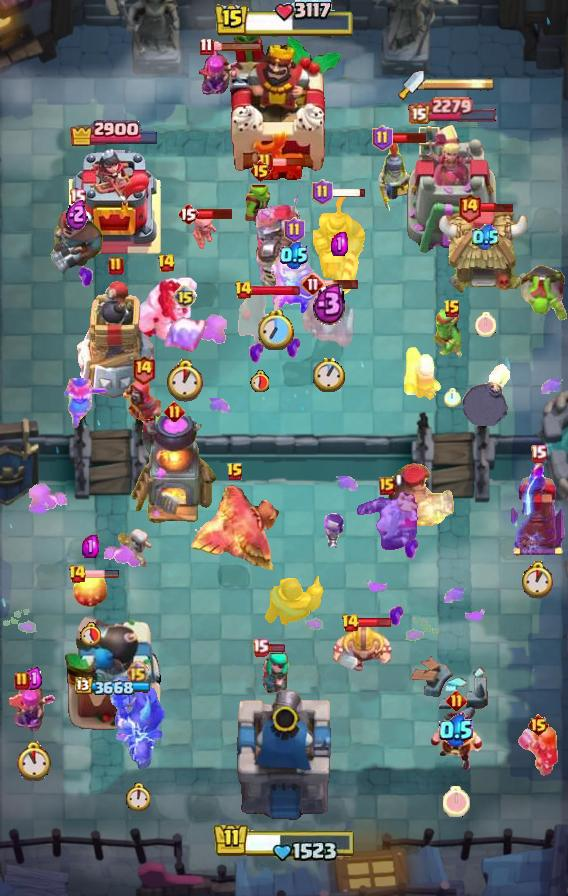archer-evolution: (191, 43, 245, 101), (8, 679, 58, 735)
bandit: (235, 289, 283, 347)
bar: (250, 284, 301, 297), (211, 41, 263, 52), (197, 207, 234, 220), (391, 131, 428, 144), (323, 278, 360, 290), (330, 187, 367, 198), (479, 202, 515, 213), (357, 617, 392, 628), (84, 569, 120, 579), (271, 157, 306, 167), (267, 643, 286, 653)
bar-level: (131, 354, 156, 385), (457, 192, 482, 223), (173, 285, 197, 309), (301, 272, 325, 296), (527, 713, 550, 737), (249, 159, 272, 183), (284, 217, 305, 243), (312, 179, 333, 205), (372, 125, 393, 151), (126, 661, 149, 684), (177, 202, 199, 226), (446, 690, 467, 711), (164, 401, 185, 422), (341, 613, 360, 633), (68, 564, 87, 584), (234, 280, 253, 300), (157, 253, 176, 273), (226, 462, 244, 482), (443, 299, 461, 319), (252, 638, 269, 657), (530, 444, 547, 463), (69, 188, 86, 207), (14, 671, 30, 691), (108, 256, 124, 276), (257, 152, 273, 172), (379, 477, 395, 495), (199, 37, 214, 56)
bomb: (461, 364, 513, 426)
cannoneer-tower: (63, 615, 165, 731)
clock: (165, 359, 206, 402), (14, 741, 53, 782), (258, 310, 294, 350), (520, 561, 556, 599), (313, 357, 345, 392), (443, 786, 470, 817), (125, 782, 150, 811), (475, 312, 496, 337), (80, 622, 101, 646), (250, 370, 269, 392), (444, 388, 461, 407)
dagger-duchess-tower: (406, 122, 500, 256)
dagger-duchess-tower-bar: (424, 77, 496, 91)
electro-wizard: (428, 710, 484, 774)
elite-barbarian: (332, 625, 394, 673)
elixir: (312, 282, 347, 325), (439, 713, 473, 747), (280, 241, 308, 269), (472, 224, 499, 251), (66, 197, 88, 230), (22, 667, 44, 691), (331, 232, 348, 256), (82, 535, 99, 558)
firecracker: (402, 344, 444, 402)
goblin: (241, 181, 279, 227)
goblin-ball: (518, 262, 568, 322)
guard: (374, 141, 418, 223)
hunter: (382, 462, 456, 526), (48, 208, 106, 278)
ice-spirit-evolution: (162, 314, 208, 356)
king-tower: (224, 23, 344, 181), (232, 686, 336, 826)
king-tower-bar: (212, 819, 356, 861), (213, 0, 355, 40)
knight: (264, 576, 326, 626)
knight-evolution: (271, 245, 318, 313)
phoenix-egg: (73, 570, 107, 608)
queen-tower: (64, 146, 164, 256)
rascal-girl: (250, 651, 292, 699)
royal-ghost: (354, 489, 420, 555), (300, 284, 358, 352)
skeleton: (118, 527, 154, 567), (190, 214, 220, 252)
skeleton-evolution: (318, 512, 349, 548)
spear-goblin: (430, 308, 474, 358)
tower-bar: (69, 118, 160, 146), (408, 96, 499, 124), (75, 677, 153, 697)
valkyrie: (62, 376, 110, 430), (517, 726, 559, 776)
wizard: (121, 378, 165, 428)
